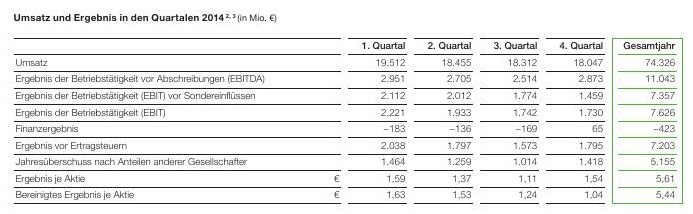table: (0, 0, 693, 214)
